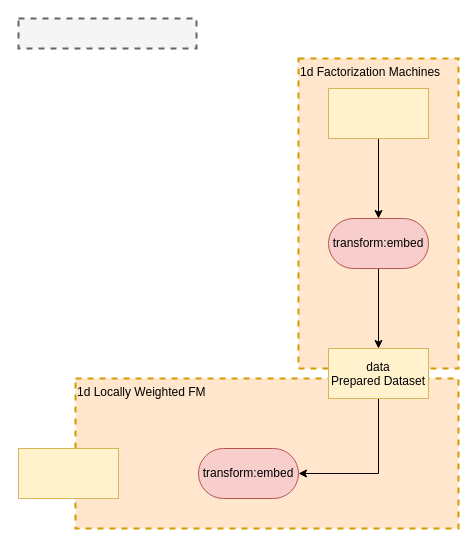
Some shapes in this 476 by 546 pixel diagram are drawn without their labels. Each missing label, with the centre of its shape:
<-- Back to Generalized Pattern: pixel 107 33
data Patient Records: pixel 378 113
data Weighted Training Instance: pixel 68 473
